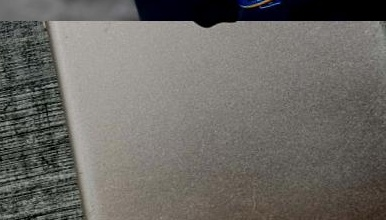scratch: (311, 100, 386, 172), (240, 177, 270, 220), (63, 31, 71, 40)
